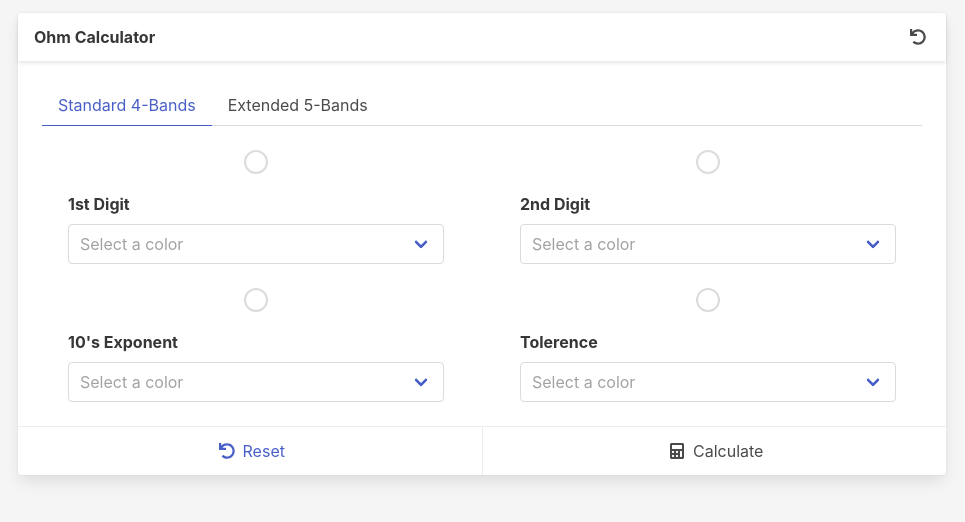
reset button resets form state to default values
Select "black" in the dropdown labelled "1st Digit" at (256, 244), box [68,224,444,264]
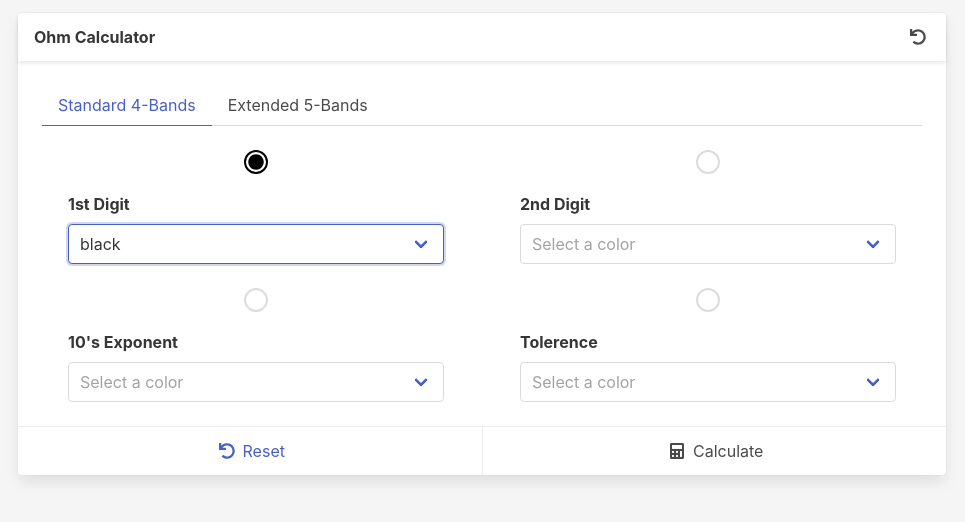
Select "black" in the dropdown labelled "2nd Digit" at (708, 244), box [520,224,896,264]
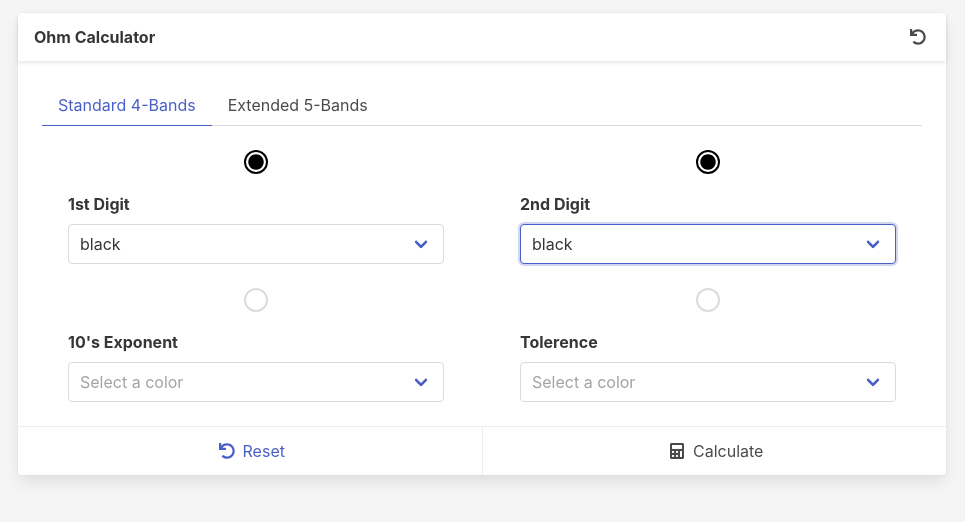
Select "black" in the dropdown labelled "10's Exponent" at (256, 382), box [68,362,444,402]
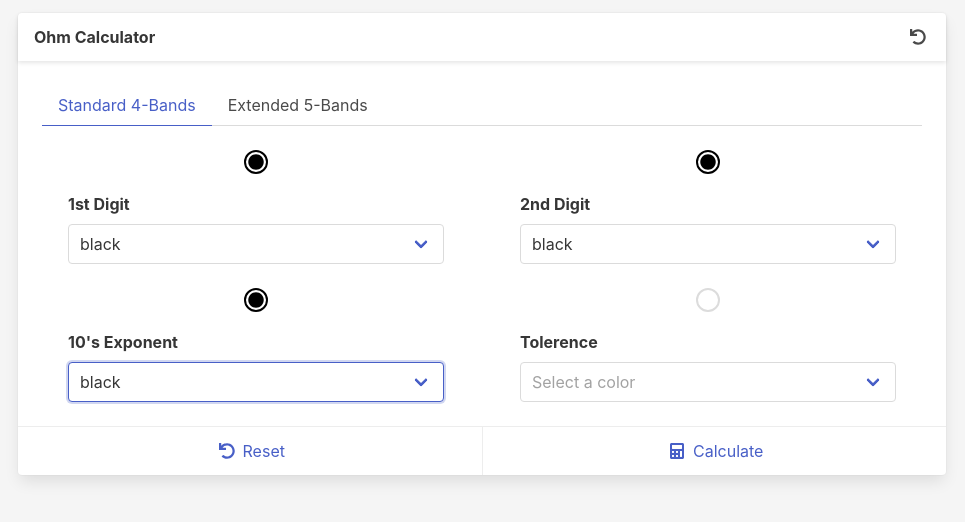
Click the button with test id "calculate-buton" at (717, 451), box [670,441,763,461]
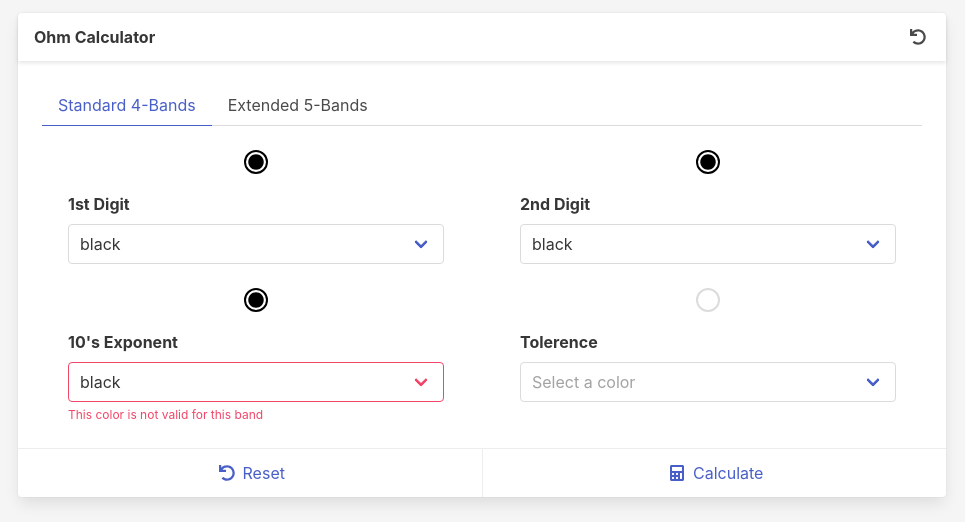
Result: the text "This color is not valid for this band" is shown at [68,407,263,422]
Click the button with test id "reset-buton" at (250, 473), box [18,449,482,497]
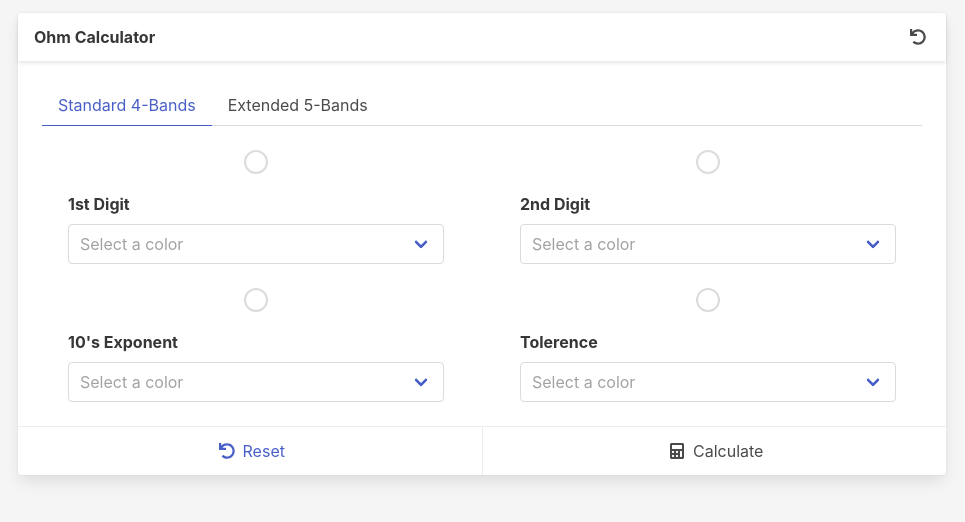
Result: the text "This color is not valid for this band" is gone
